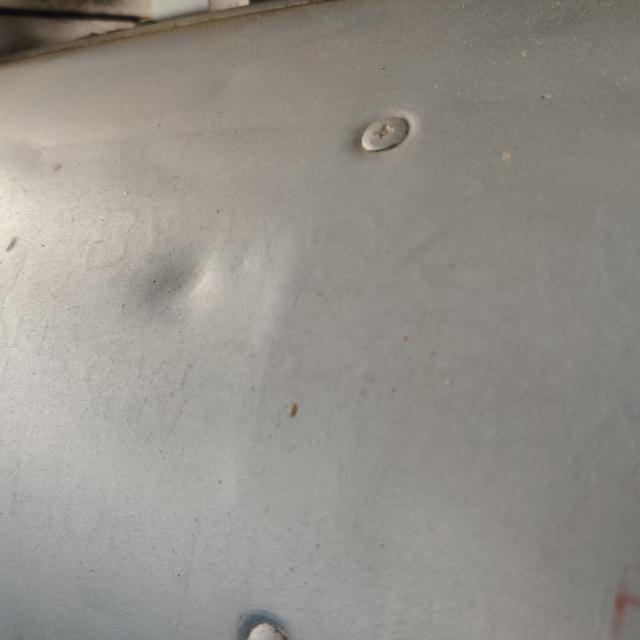dent: (115, 228, 241, 350)
